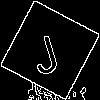J: (25, 25, 63, 76)
